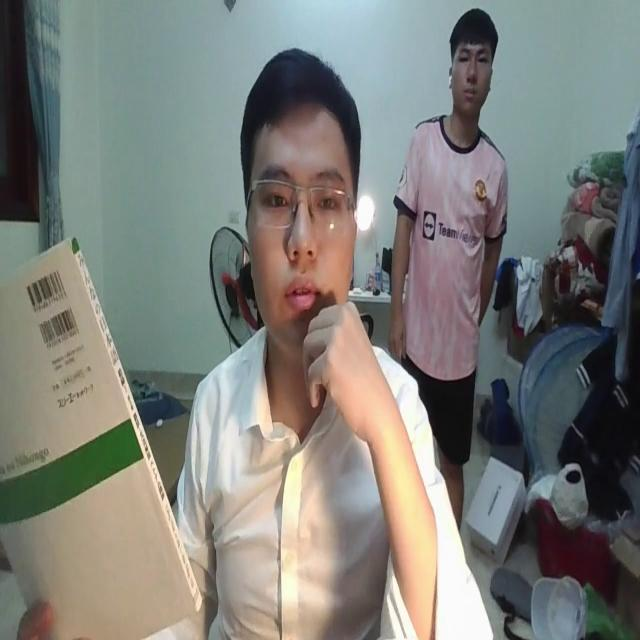book: (0, 227, 208, 634)
extra_person: (381, 6, 510, 507)
student: (174, 46, 498, 640)
